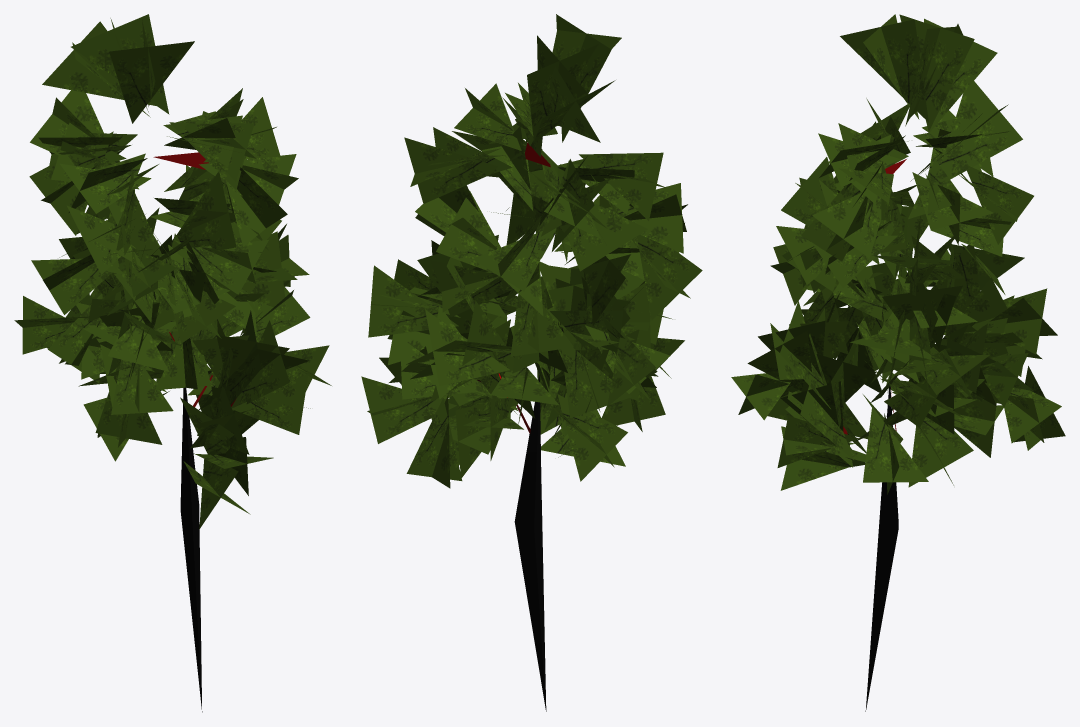
Rendered from birch 5 lod4.FBX.
3 renders of one model, left to right at view 1: azimuth 30°, elevation 25°; view 2: azimuth 150°, elevation 25°; view 3: azimuth 270°, elevation 25°, orthographic. The views are drawn at different scales.
Visible parts, largest first — view 1: birch5_LOD4; view 2: birch5_LOD4; view 3: birch5_LOD4.
Part boxes in pixels (x1,y1,x2,y2): birch5_LOD4: [14, 14, 331, 712]; birch5_LOD4: [361, 14, 702, 711]; birch5_LOD4: [731, 14, 1065, 711].
Bounding box in the file's own units: 64070 × 139974 × 62731.
